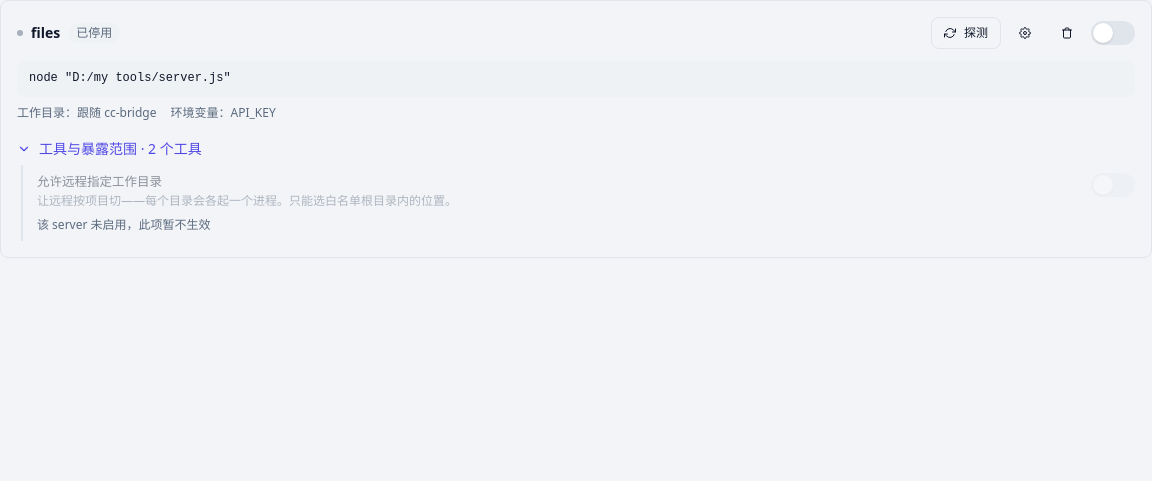
Test case: 工具范围与服务行 › 停用不显示为就绪，详情提供展开语义且图标操作具有名称
Expected: the button named "编辑 files 启动参数" is shown, [1007,17,1043,49]
Click the button "工具与暴露范围 · 2 个工具": coordinates (109, 148) [17,132,202,164]
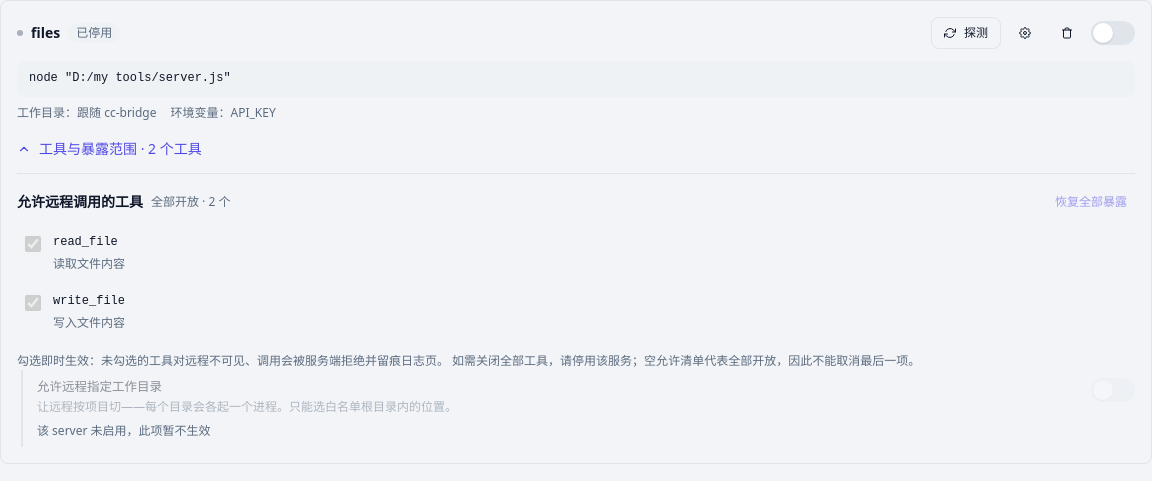
Expected: the text "node \"D:/my tools/server.js\"" is shown, [17,61,1135,96]
Expected: the button "工具与暴露范围 · 2 个工具" is expanded, [17,132,202,164]
Expected: the text "读取文件内容" is shown, [53,254,125,273]
